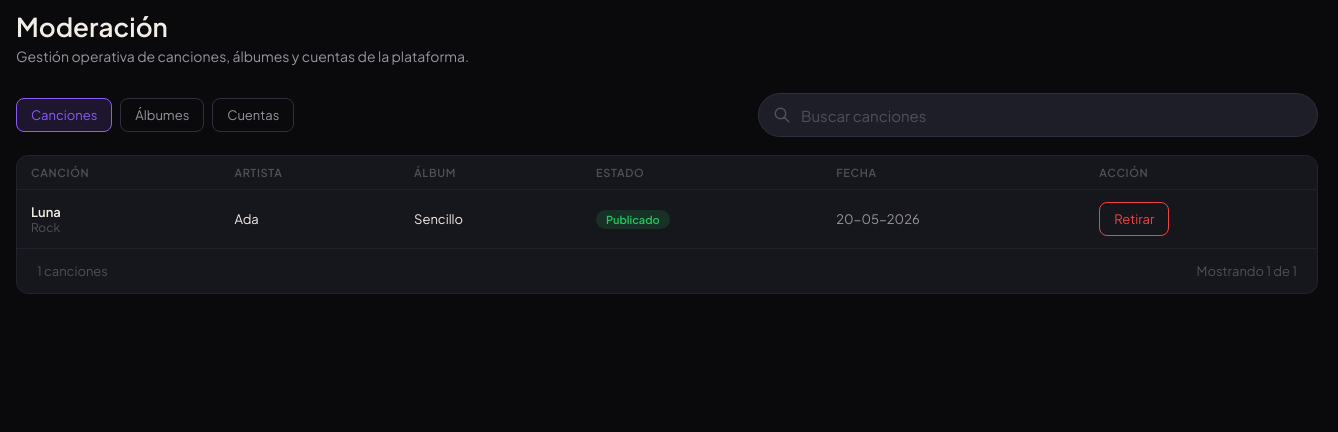
Test: AdminPages › keeps account search results limited to matching rows when the response includes extra accounts
This screenshot has width=1338, height=432.
Click the button "Cuentas" at point(253, 115), box [212,98,294,132]
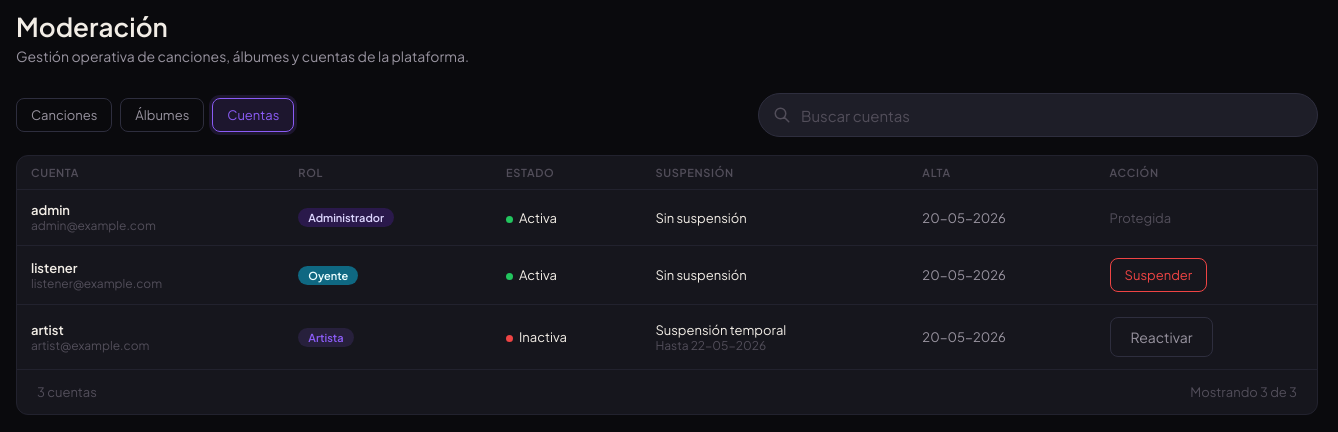
Check: the text "listener@example.com" is shown, box [31,276,162,290]
Type "artist" into the field with placeholder "Buscar cuentas" at point(1038, 115), box [758,93,1318,137]
Then press Enter
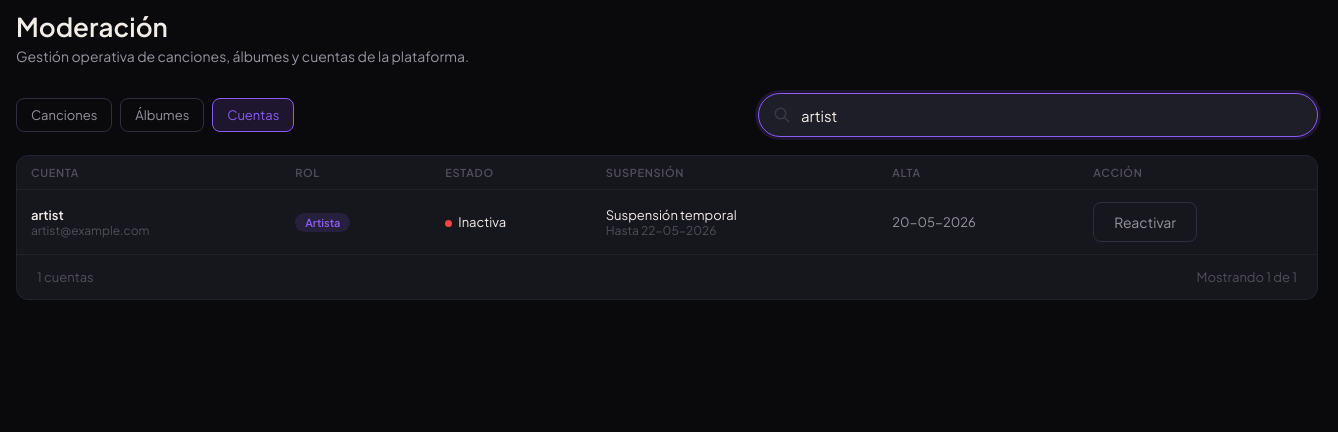
Check: the text "artist@example.com" is shown, box [31,222,150,238]
Check: the text "1 cuentas" is shown, box [37,269,94,285]
Check: the text "admin@example.com" is gone
